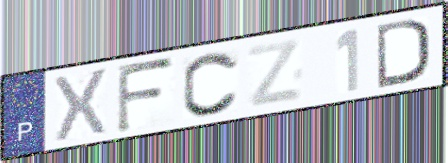1: (335, 28, 361, 94)
C: (180, 50, 241, 118)
D: (374, 16, 433, 91)
F: (114, 55, 177, 136)
X: (52, 65, 110, 145)
Z: (244, 36, 305, 110)
